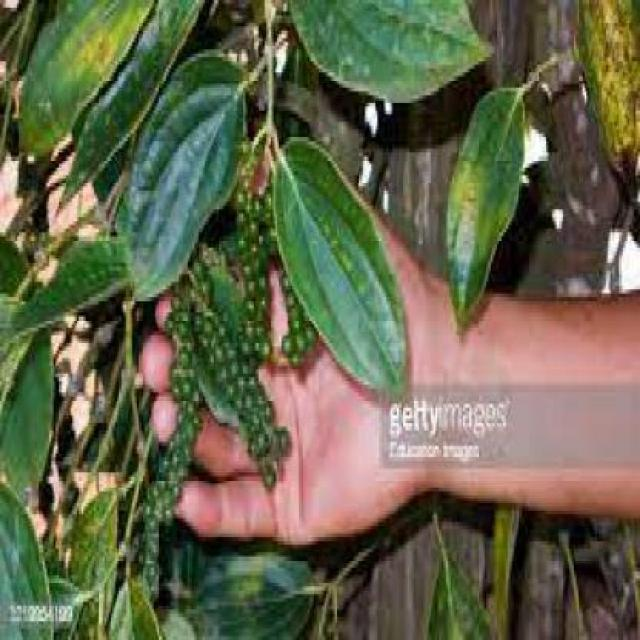UNRIPE: (139, 286, 199, 595), (220, 141, 269, 354)
